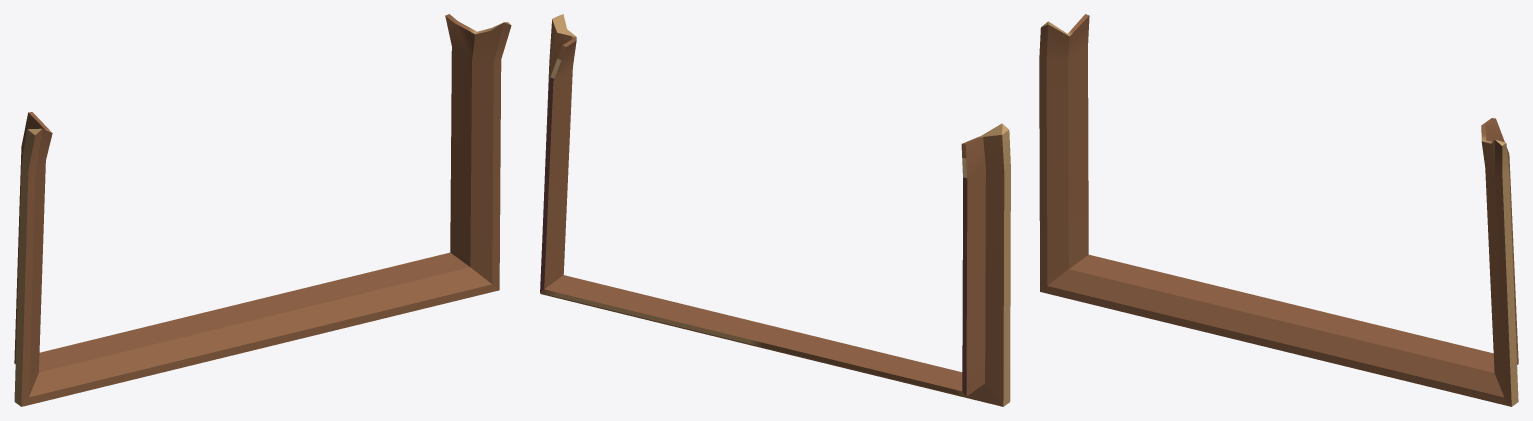
File: DBK_WinBig_Trim_C_Tile.fbx
3 renders of one model, left to right at view 1: azimuth 30°, elevation 25°; view 2: azimuth 150°, elevation 25°; view 3: azimuth 330°, elevation 25°, orthographic. The views are drawn at different scales.
Visible parts, largest first — view 1: DBK_WinBig_Trim_C_Tile; view 2: DBK_WinBig_Trim_C_Tile; view 3: DBK_WinBig_Trim_C_Tile.
Part boxes in pixels (left/top/right/bottom): DBK_WinBig_Trim_C_Tile: left=14, top=14, right=511, bottom=406; DBK_WinBig_Trim_C_Tile: left=540, top=14, right=1010, bottom=406; DBK_WinBig_Trim_C_Tile: left=1039, top=14, right=1518, bottom=406.
Bounding box in the file's own units: 221 × 123 × 29.4.
